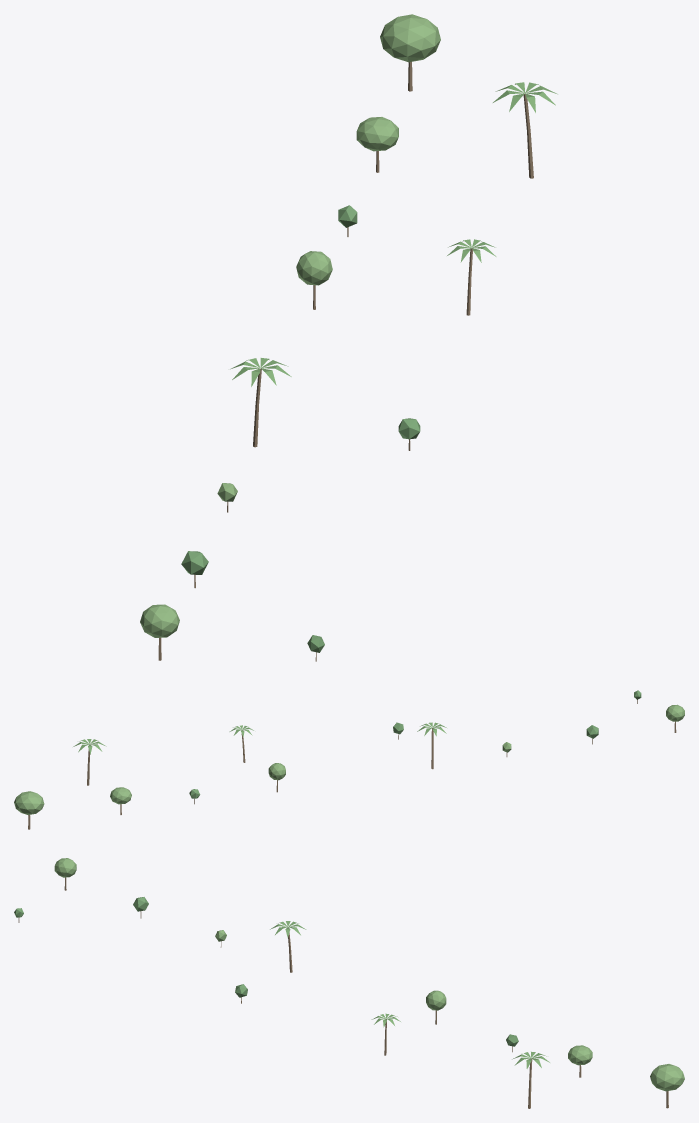
The model's file is nature_-7_1.glb.
3 renders of one model, top to bottom at view 1: azimuth 30°, elevation 25°; view 2: azimuth 150°, elevation 25°; view 3: azimuth 270°, elevation 25°, orthographic. The views are drawn at different scales.
Parts seen in each view (by area): view 1: foliage_b, palm_leaf, foliage_a, trunk; view 2: foliage_b, palm_leaf, trunk, foliage_a; view 3: foliage_b, palm_leaf, trunk, foliage_a.
Part boxes in pixels (x1,y1,x2,y2): foliage_b: (140,14,440,637); palm_leaf: (230,82,557,386); foliage_a: (181,205,420,652); trunk: (158,62,533,661); foliage_b: (14,704,684,814); palm_leaf: (73,722,446,754); trunk: (28,699,676,829); foliage_a: (189,690,641,798); foliage_b: (54,858,684,1091); palm_leaf: (270,921,549,1068); trunk: (18,877,668,1108); foliage_a: (14,897,518,1046).
Bounding box in the file's own units: 83.36 × 8.57 × 103.
